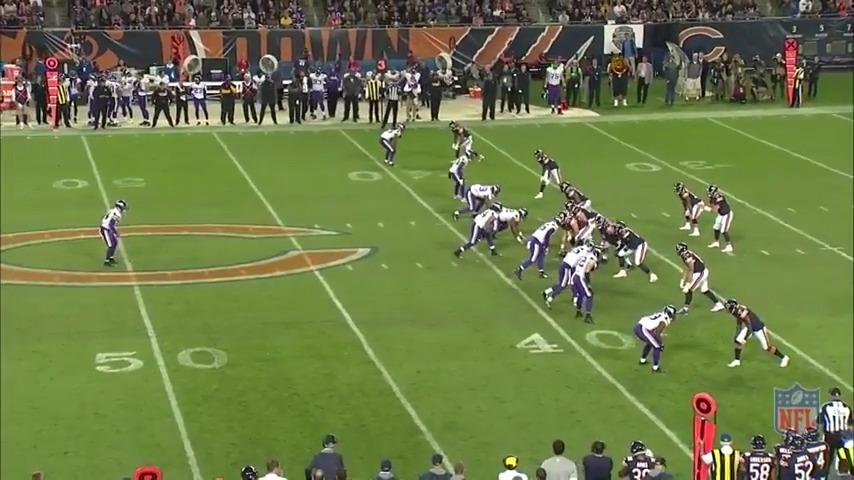player: (726, 300, 792, 373), (454, 203, 518, 260), (680, 241, 726, 314), (512, 217, 559, 284), (635, 303, 679, 374), (545, 242, 594, 304), (613, 223, 658, 286), (565, 246, 600, 325), (707, 181, 740, 255), (672, 177, 707, 240), (98, 199, 128, 270), (533, 146, 571, 201), (451, 182, 504, 220), (488, 206, 532, 246), (560, 208, 599, 251), (451, 119, 487, 164), (595, 217, 630, 263), (449, 148, 474, 203), (379, 121, 405, 169), (564, 198, 600, 230), (561, 185, 594, 216)
ref: (822, 392, 854, 446), (378, 78, 409, 131)
